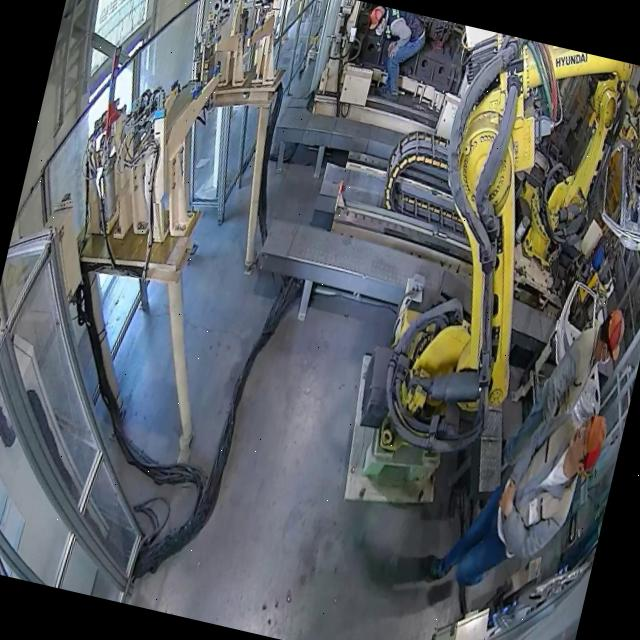Person: (417, 381, 610, 612), (497, 290, 629, 488), (351, 3, 430, 102)
